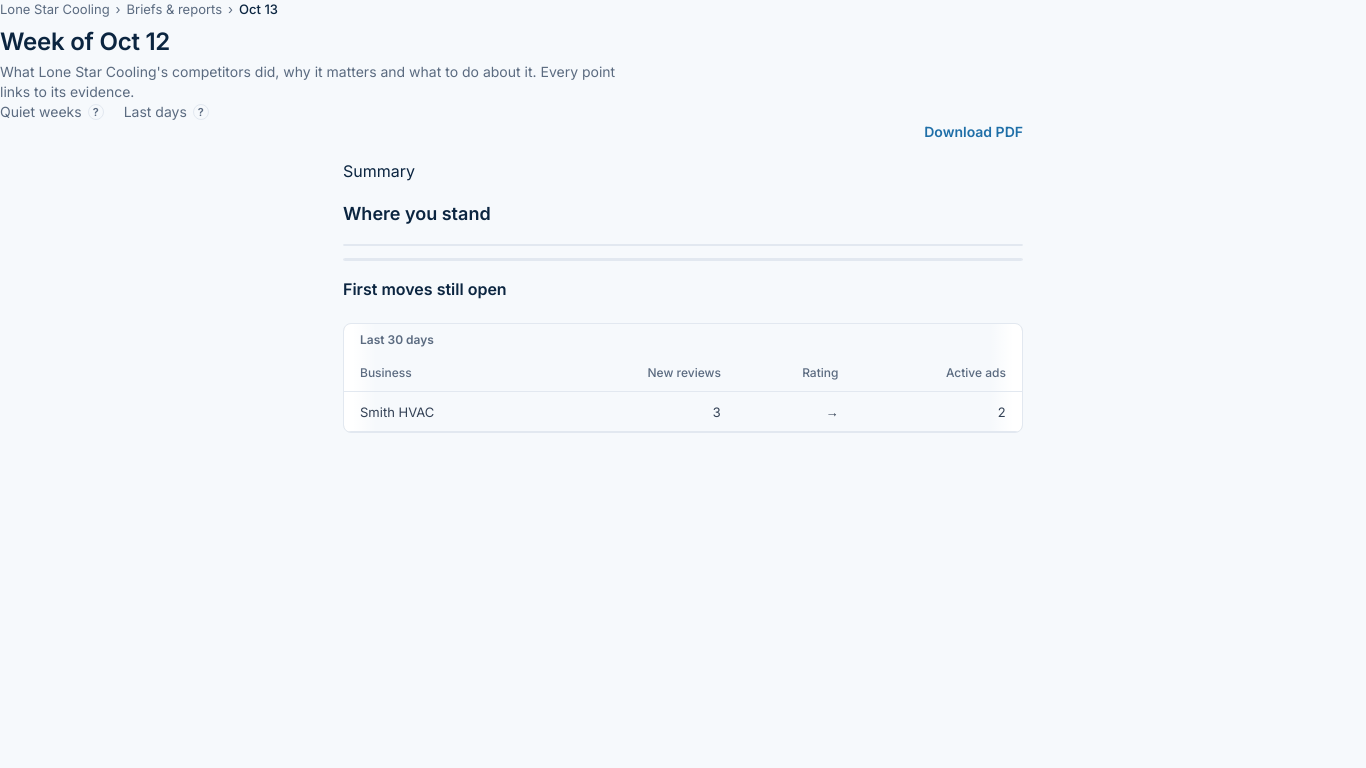
Test case: client batch B: Brief › quiet week: the Quiet weeks tip explains Where you stand
Click the button named "Quiet weeks": (96, 112) [88,104,104,120]
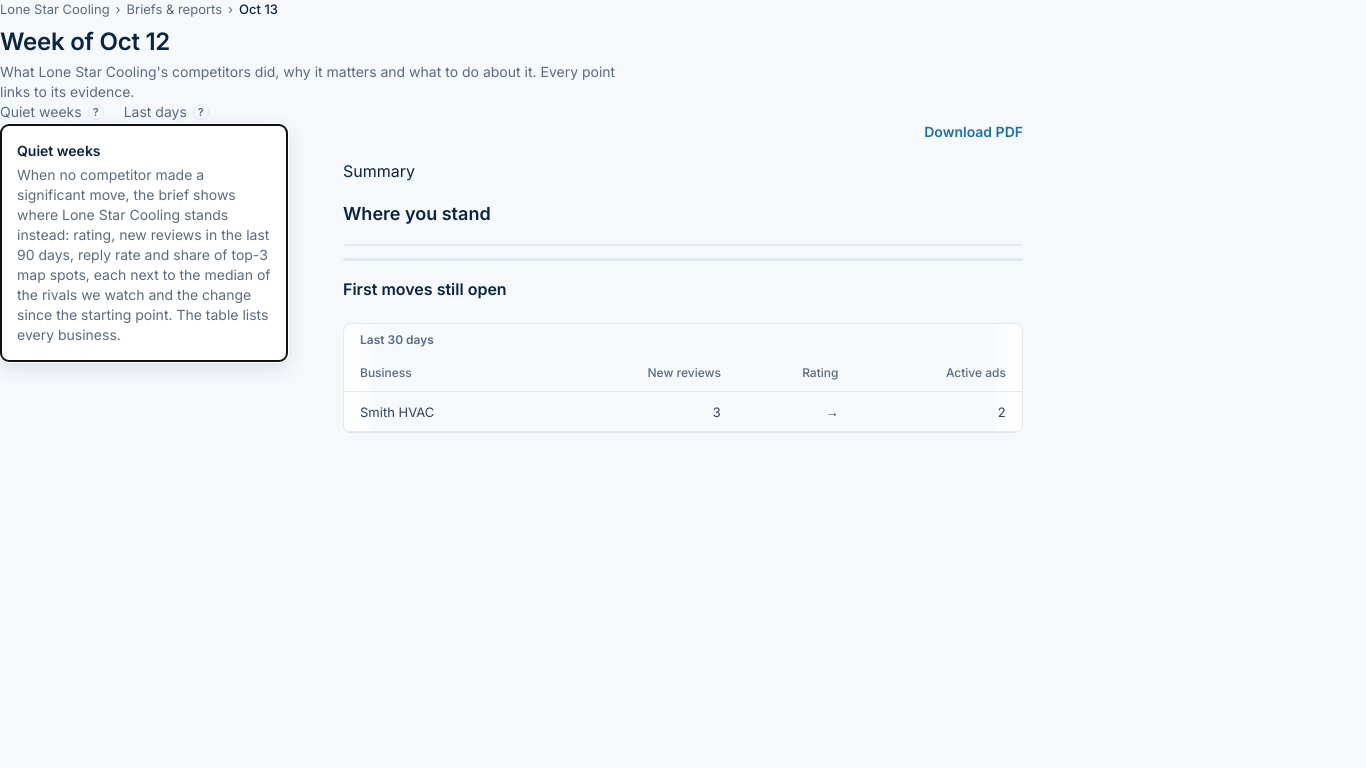
Expected: the text "median of the rivals we watch" is shown, [17,166,270,343]
